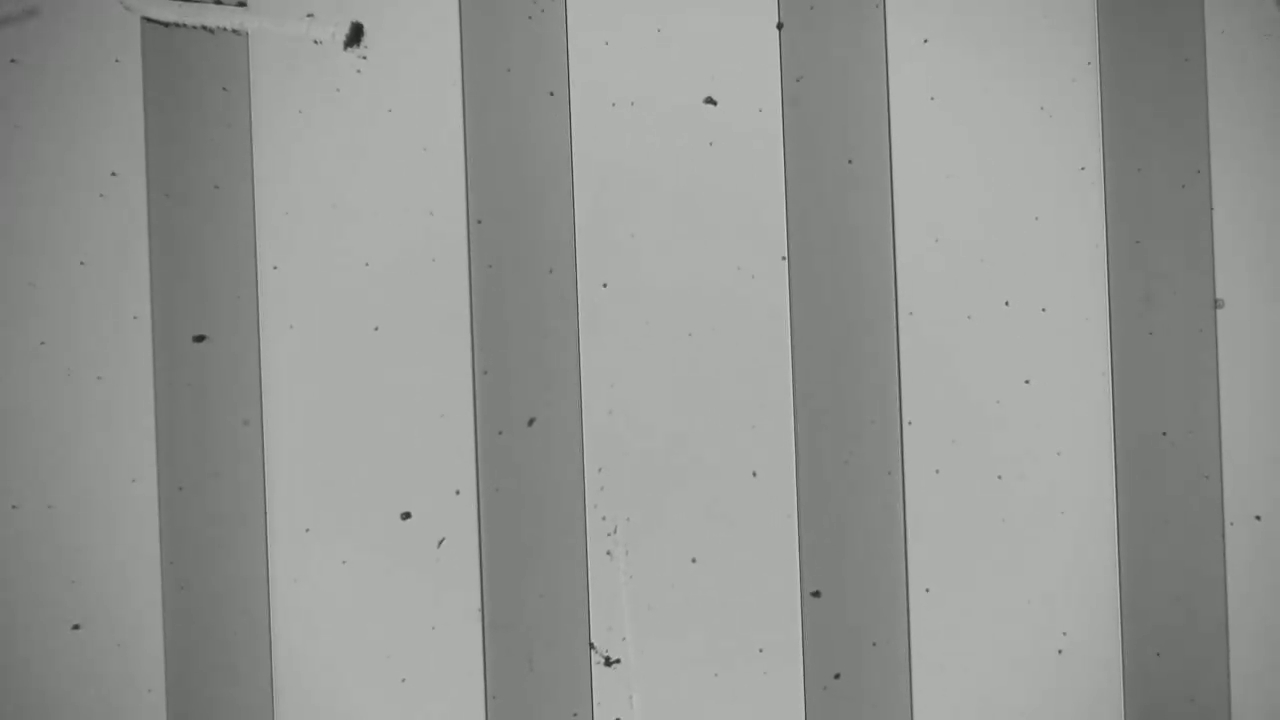Short_circuit: (73, 1, 287, 74)
